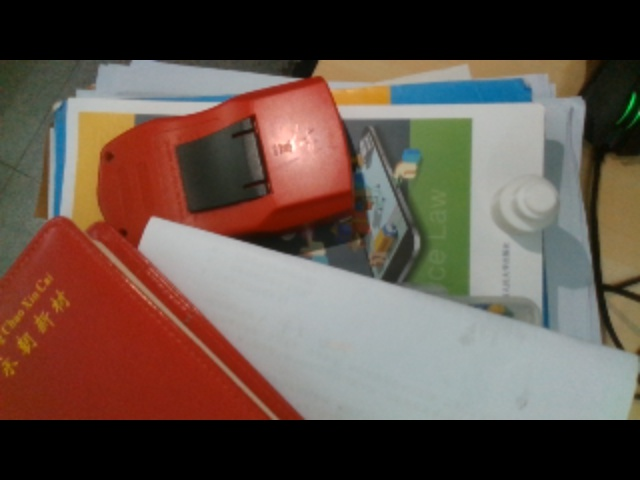Multimeter: (94, 75, 357, 247)
Screw holes: (103, 151, 116, 166)
